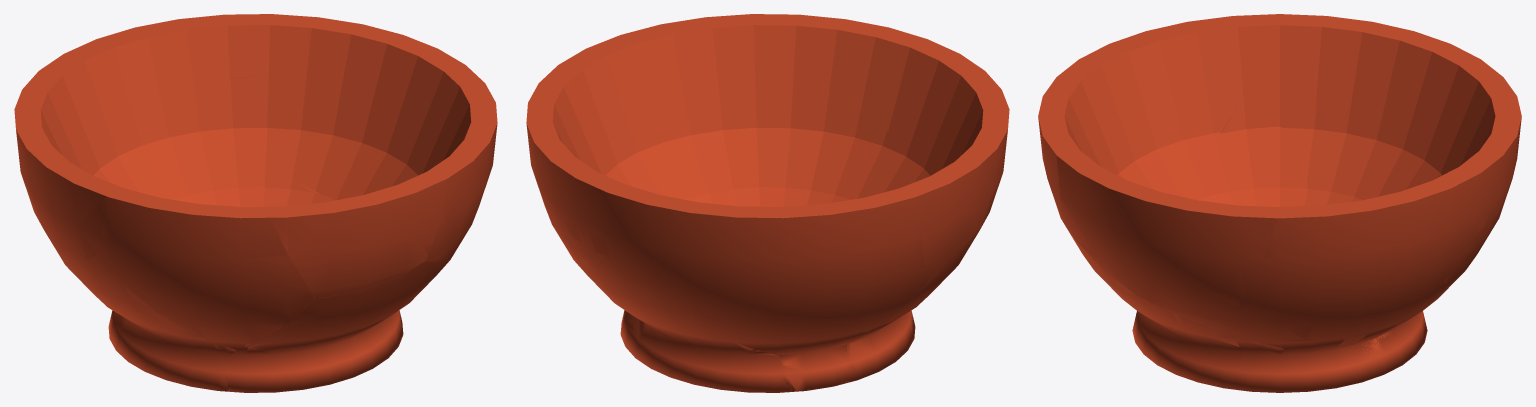
Rendered from P_BolColored_Breackable.fbx.
3 views of the same model, side by side, from view 1: azimuth 30°, elevation 25°; view 2: azimuth 150°, elevation 25°; view 3: azimuth 270°, elevation 25° (orthographic).
Visible parts, largest first — view 1: P_Bol_Colored_Breakable, P_Bol_Colored_Breakable_cell.007, P_Bol_Colored_Breakable_cell.008, P_Bol_Colored_Breakable_cell.002, P_Bol_Colored_Breakable_cell.010, P_Bol_Colored_Breakable_cell.005, P_Bol_Colored_Breakable_cell.006, P_Bol_Colored_Breakable_cell.001, P_Bol_Colored_Breakable_cell.009, P_Bol_Colored_Breakable_cell.004, P_Bol_Colored_Breakable_cell.003, P_Bol_Colored_Breakable_cell; view 2: P_Bol_Colored_Breakable, P_Bol_Colored_Breakable_cell.002, P_Bol_Colored_Breakable_cell.003, P_Bol_Colored_Breakable_cell.007, P_Bol_Colored_Breakable_cell.009, P_Bol_Colored_Breakable_cell.005, P_Bol_Colored_Breakable_cell, P_Bol_Colored_Breakable_cell.001, P_Bol_Colored_Breakable_cell.008, P_Bol_Colored_Breakable_cell.010, P_Bol_Colored_Breakable_cell.006; view 3: P_Bol_Colored_Breakable, P_Bol_Colored_Breakable_cell.002, P_Bol_Colored_Breakable_cell.003, P_Bol_Colored_Breakable_cell.009, P_Bol_Colored_Breakable_cell.008, P_Bol_Colored_Breakable_cell, P_Bol_Colored_Breakable_cell.006, P_Bol_Colored_Breakable_cell.001, P_Bol_Colored_Breakable_cell.005, P_Bol_Colored_Breakable_cell.007, P_Bol_Colored_Breakable_cell.010.
Boxes of the visible parts, x1=… form: P_Bol_Colored_Breakable: x1=14, y1=31, x2=497, y2=392; P_Bol_Colored_Breakable_cell.007: x1=151, y1=39, x2=465, y2=200; P_Bol_Colored_Breakable_cell.008: x1=99, y1=197, x2=313, y2=346; P_Bol_Colored_Breakable_cell.002: x1=14, y1=33, x2=159, y2=317; P_Bol_Colored_Breakable_cell.010: x1=271, y1=179, x2=446, y2=297; P_Bol_Colored_Breakable_cell.005: x1=119, y1=14, x2=412, y2=78; P_Bol_Colored_Breakable_cell.006: x1=229, y1=258, x2=450, y2=392; P_Bol_Colored_Breakable_cell.001: x1=63, y1=261, x2=236, y2=391; P_Bol_Colored_Breakable_cell.009: x1=17, y1=131, x2=119, y2=261; P_Bol_Colored_Breakable_cell.004: x1=160, y1=135, x2=331, y2=206; P_Bol_Colored_Breakable_cell.003: x1=424, y1=85, x2=497, y2=260; P_Bol_Colored_Breakable_cell: x1=158, y1=154, x2=266, y2=206; P_Bol_Colored_Breakable: x1=526, y1=14, x2=1009, y2=392; P_Bol_Colored_Breakable_cell.002: x1=667, y1=185, x2=922, y2=391; P_Bol_Colored_Breakable_cell.003: x1=623, y1=33, x2=789, y2=171; P_Bol_Colored_Breakable_cell.007: x1=532, y1=65, x2=673, y2=276; P_Bol_Colored_Breakable_cell.009: x1=908, y1=130, x2=1006, y2=284; P_Bol_Colored_Breakable_cell.005: x1=526, y1=97, x2=672, y2=258; P_Bol_Colored_Breakable_cell: x1=620, y1=310, x2=791, y2=392; P_Bol_Colored_Breakable_cell.001: x1=845, y1=264, x2=955, y2=383; P_Bol_Colored_Breakable_cell.008: x1=911, y1=80, x2=1007, y2=216; P_Bol_Colored_Breakable_cell.010: x1=858, y1=48, x2=932, y2=130; P_Bol_Colored_Breakable_cell.006: x1=680, y1=129, x2=888, y2=203; P_Bol_Colored_Breakable: x1=1038, y1=15, x2=1521, y2=392; P_Bol_Colored_Breakable_cell.002: x1=1301, y1=21, x2=1519, y2=205; P_Bol_Colored_Breakable_cell.003: x1=1057, y1=156, x2=1277, y2=325; P_Bol_Colored_Breakable_cell.009: x1=1190, y1=14, x2=1368, y2=133; P_Bol_Colored_Breakable_cell.008: x1=1103, y1=35, x2=1226, y2=162; P_Bol_Colored_Breakable_cell: x1=1238, y1=321, x2=1416, y2=392; P_Bol_Colored_Breakable_cell.006: x1=1065, y1=226, x2=1241, y2=386; P_Bol_Colored_Breakable_cell.001: x1=1218, y1=105, x2=1309, y2=206; P_Bol_Colored_Breakable_cell.005: x1=1360, y1=108, x2=1521, y2=233; P_Bol_Colored_Breakable_cell.007: x1=1232, y1=146, x2=1479, y2=338; P_Bol_Colored_Breakable_cell.010: x1=1038, y1=92, x2=1100, y2=230.
Size of the model in its own units: 49.36 by 24.14 by 49.36.
